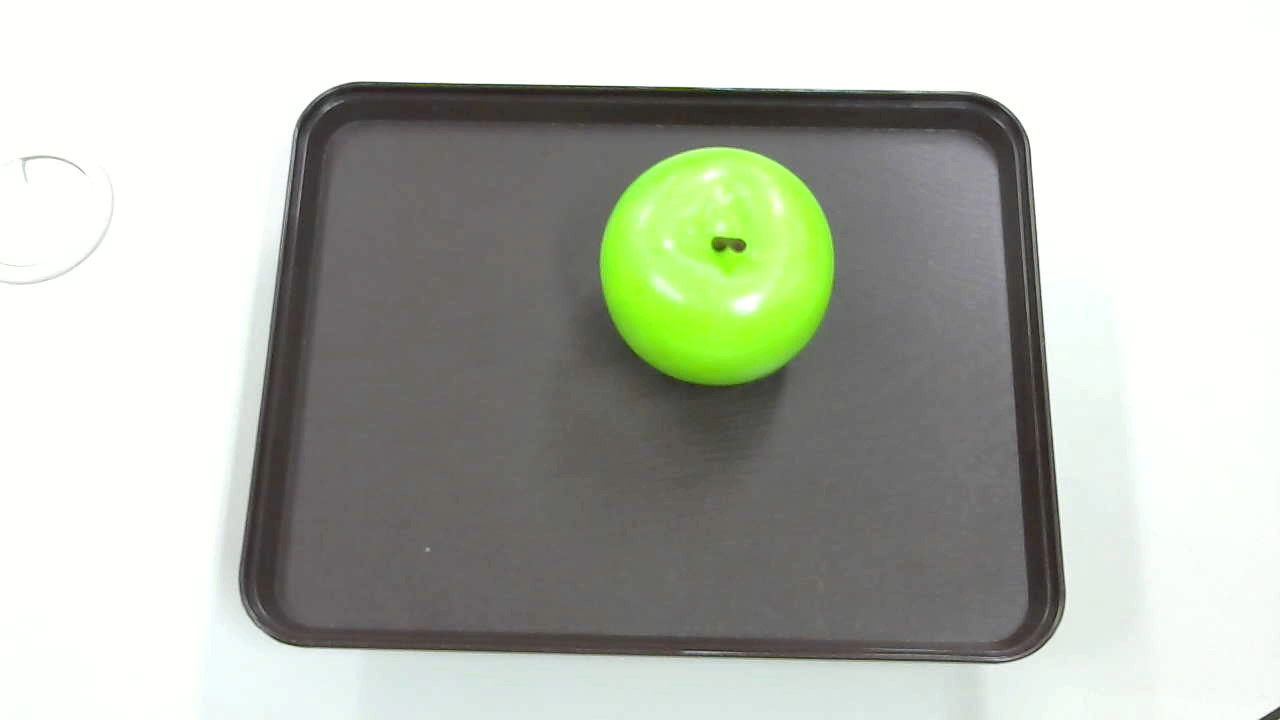green apple: (596, 144, 834, 391)
